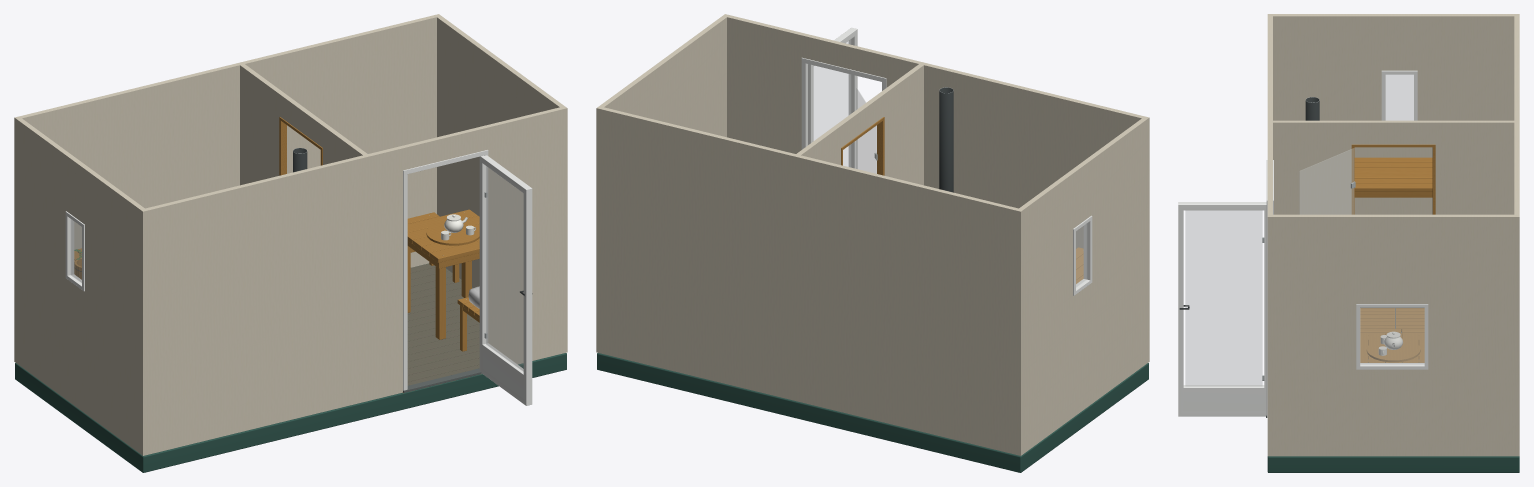
3 views of the same model, side by side, from view 1: azimuth 30°, elevation 25°; view 2: azimuth 150°, elevation 25°; view 3: azimuth 270°, elevation 25° (orthographic). The views are drawn at different scales.
Parts seen in each view (by area): view 1: Wall front band 2, Wall front band 7, Wall rear band 7, Wall front band 4, Wall front band 5, Wall front band 6, Wall front band 8, Wall front band 1, Wall rear band 8, Wall rear band 6, Foundation, Wall rear band 5 (+31 smaller); view 2: Wall rear band 2, Wall rear band 6, Wall rear band 4, Wall rear band 5, Wall rear band 7, Wall rear band 1, Wall rear band 8, Wall front band 8, Foundation, Wall front band 7, Wall front band 6, Wall rear band 0 (+24 smaller); view 3: Single PVC glass panel, Wall right band 2, Wall right band 7, Wall left band 7, Wall right band 6, Wall right band 1, Wall left band 6, Wall right band 8, Wall top_1_0003 band 8, Wall right band 4, Wall left band 8, Wall right band 5 (+30 smaller).
Part boxes in pixels (bbox=[...]): Wall front band 2: bbox=[140, 269, 567, 409]; Wall front band 7: bbox=[140, 130, 567, 266]; Wall rear band 7: bbox=[14, 39, 436, 174]; Wall front band 4: bbox=[140, 230, 567, 366]; Wall front band 5: bbox=[140, 197, 567, 333]; Wall front band 6: bbox=[140, 163, 567, 300]; Wall front band 8: bbox=[140, 106, 567, 233]; Wall front band 1: bbox=[140, 306, 567, 440]; Wall rear band 8: bbox=[14, 14, 440, 141]; Wall rear band 6: bbox=[14, 72, 436, 207]; Foundation: bbox=[15, 353, 566, 472]; Wall rear band 5: bbox=[14, 106, 436, 241]; Wall rear band 2: bbox=[596, 269, 1023, 409]; Wall rear band 6: bbox=[596, 163, 1023, 300]; Wall rear band 4: bbox=[596, 230, 1023, 366]; Wall rear band 5: bbox=[596, 197, 1023, 333]; Wall rear band 7: bbox=[596, 130, 1023, 266]; Wall rear band 1: bbox=[596, 306, 1023, 440]; Wall rear band 8: bbox=[596, 106, 1023, 233]; Wall front band 8: bbox=[723, 14, 1149, 141]; Foundation: bbox=[597, 353, 1148, 472]; Wall front band 7: bbox=[727, 39, 1149, 174]; Wall front band 6: bbox=[727, 72, 1149, 207]; Wall rear band 0: bbox=[596, 337, 1023, 455]; Single PVC glass panel: bbox=[1185, 210, 1262, 386]; Wall right band 2: bbox=[1273, 374, 1514, 410]; Wall right band 7: bbox=[1273, 238, 1514, 271]; Wall left band 7: bbox=[1273, 38, 1514, 70]; Wall right band 6: bbox=[1273, 271, 1514, 303]; Wall right band 1: bbox=[1273, 410, 1514, 441]; Wall left band 6: bbox=[1273, 70, 1514, 103]; Wall right band 8: bbox=[1273, 214, 1514, 238]; Wall top_1_0003 band 8: bbox=[1273, 120, 1514, 144]; Wall right band 4: bbox=[1273, 336, 1514, 369]; Wall left band 8: bbox=[1273, 14, 1514, 37]; Wall right band 5: bbox=[1273, 304, 1514, 336].
Size of the model in its own units: 4.02 by 2.36 by 2.84.
Materials: 32 (13 with a texture image).
